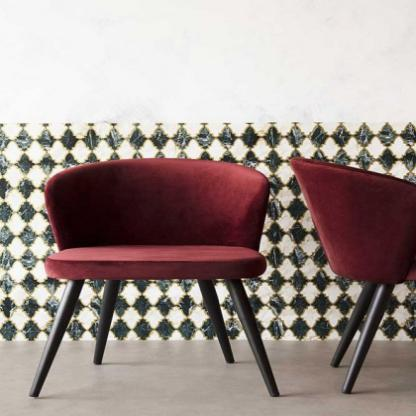chair: (34, 145, 285, 412), (288, 145, 416, 396)
